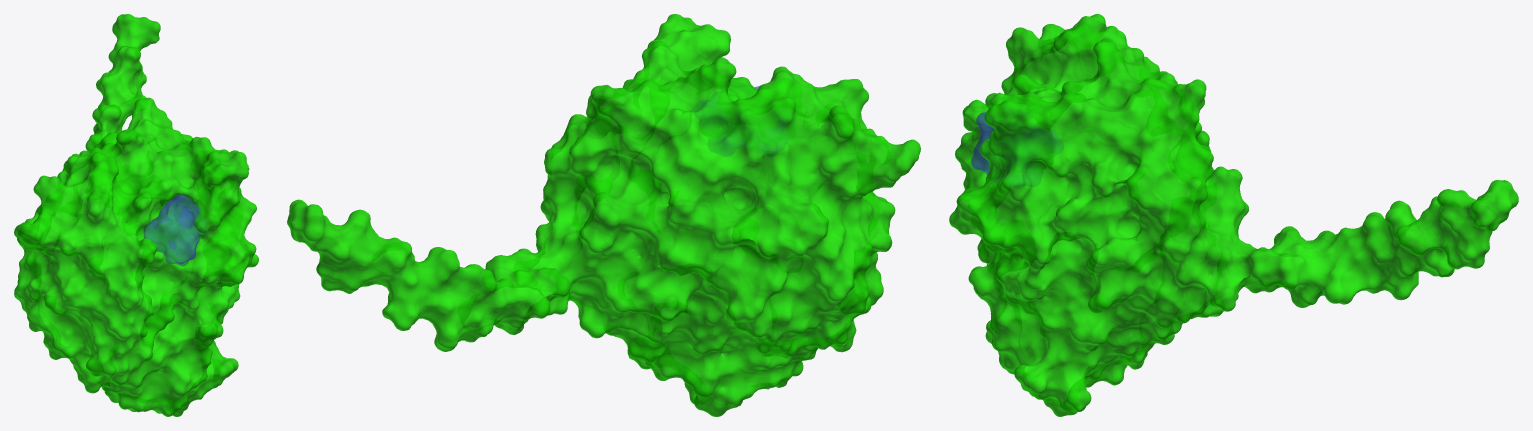
Rendered from lekarstvo.glb.
3 renders of one model, left to right at view 1: azimuth 30°, elevation 25°; view 2: azimuth 150°, elevation 25°; view 3: azimuth 270°, elevation 25°, orthographic. The views are drawn at different scales.
Visible parts, largest first — view 1: protein_h.pdb.001, besst_l.pdb.001; view 2: protein_h.pdb.001, besst_l.pdb.001; view 3: protein_h.pdb.001, besst_l.pdb.001.
Boxes of the visible parts, <box> form: protein_h.pdb.001: <box>14,14,258,416</box>; besst_l.pdb.001: <box>143,194,206,266</box>; protein_h.pdb.001: <box>287,14,920,416</box>; besst_l.pdb.001: <box>694,86,787,156</box>; protein_h.pdb.001: <box>949,14,1518,416</box>; besst_l.pdb.001: <box>971,112,1063,187</box>.
Bounding box in the file's own units: 1.28 × 1.11 × 1.6.
